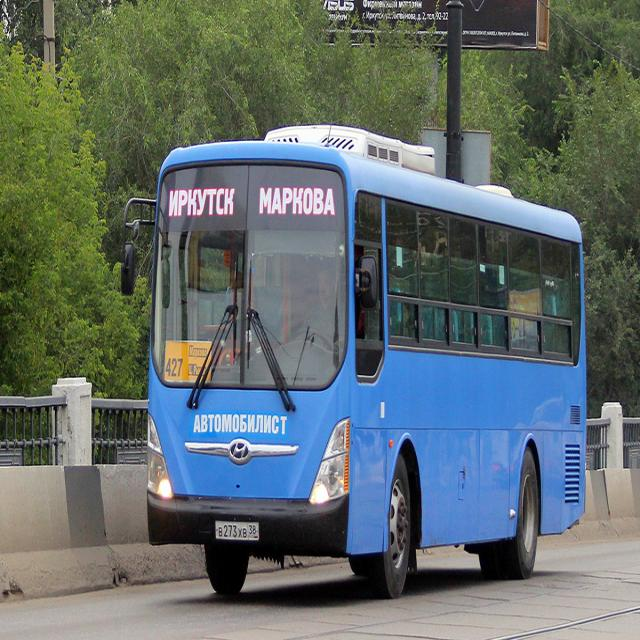number-of-bus: (166, 356, 186, 382)
